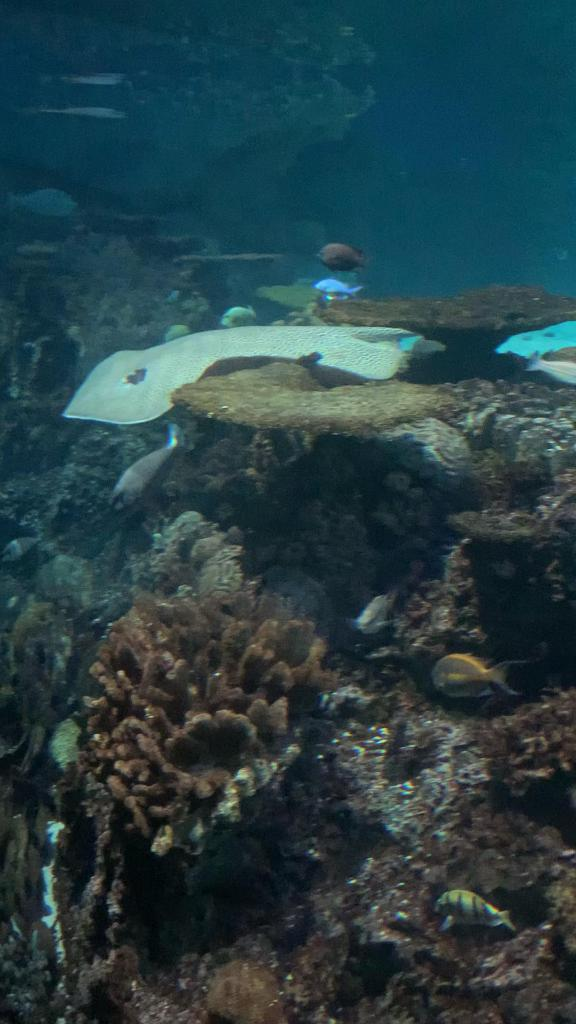fish: (98, 418, 194, 514), (426, 644, 532, 712), (428, 880, 526, 940), (352, 586, 400, 640), (313, 234, 363, 276), (0, 533, 41, 564), (313, 276, 364, 300)
stingray: (62, 322, 406, 422)
